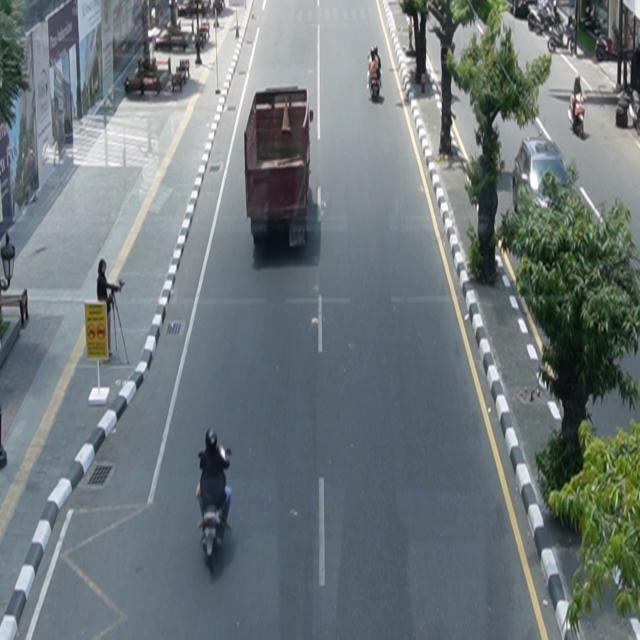car: (513, 137, 572, 219)
truck: (245, 86, 314, 250)
